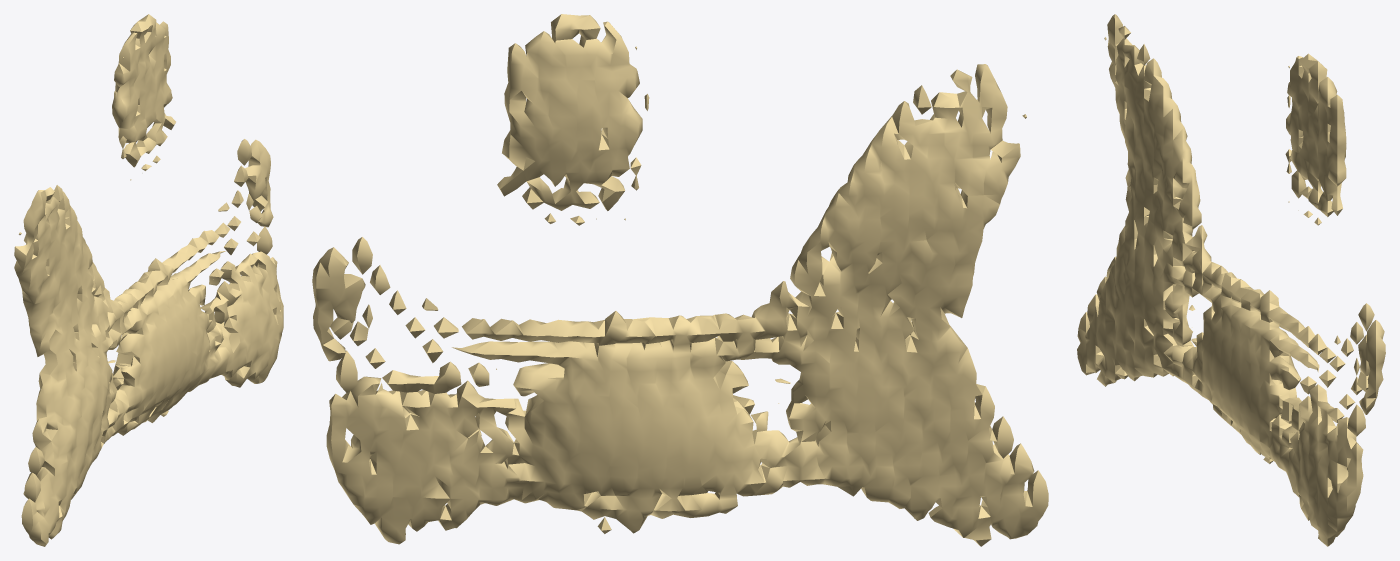
File: envelope.classical.diff_stress.p99.glb
3 views of the same model, side by side, from view 1: azimuth 30°, elevation 25°; view 2: azimuth 150°, elevation 25°; view 3: azimuth 270°, elevation 25° (orthographic). The views are drawn at different scales.
Visible parts, largest first — view 1: envelope.classical.diff_stress.p99; view 2: envelope.classical.diff_stress.p99; view 3: envelope.classical.diff_stress.p99.
Boxes of the visible parts, x1,y1,x2,y2 form: envelope.classical.diff_stress.p99: [14, 14, 283, 546]; envelope.classical.diff_stress.p99: [312, 14, 1048, 546]; envelope.classical.diff_stress.p99: [1077, 14, 1385, 546].
Size of the model in its own units: 9.77 by 9.77 by 6.39.
